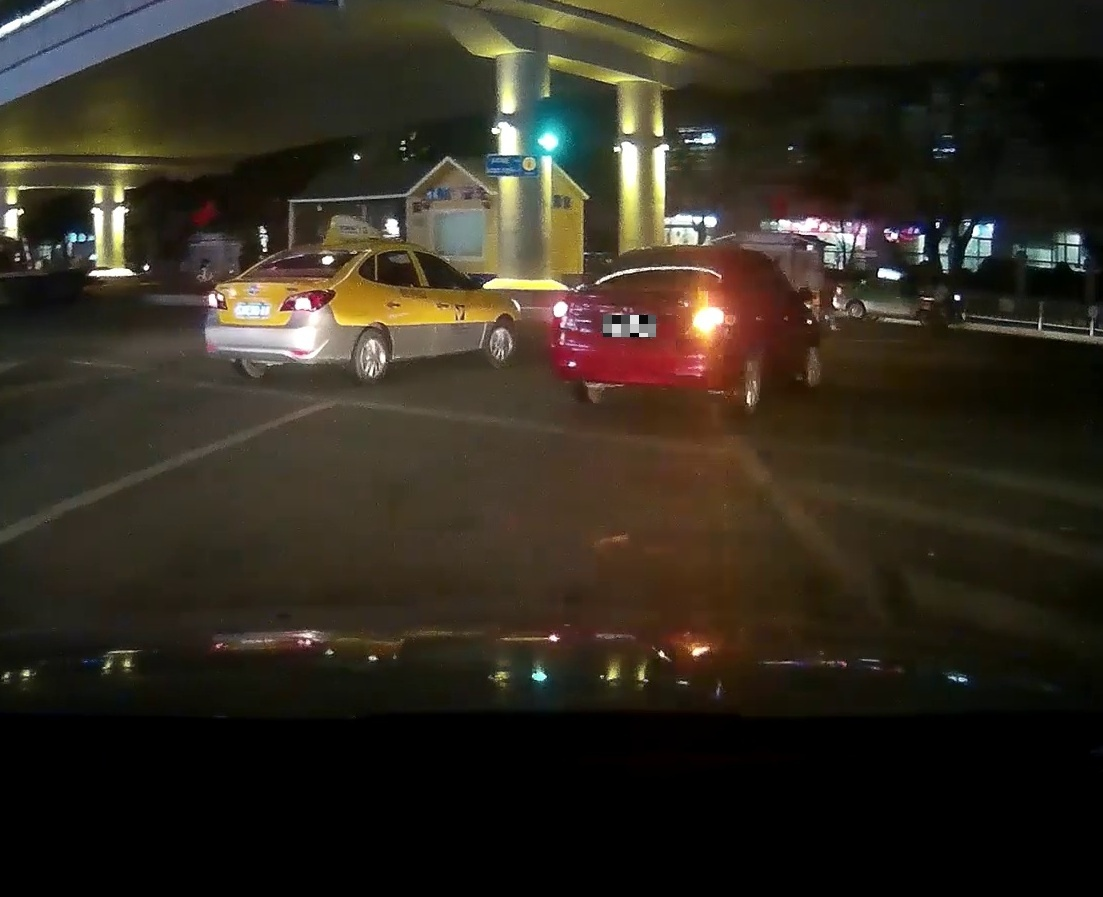L_light: (551, 300, 592, 333), (206, 289, 228, 310)
R_light: (279, 290, 336, 312), (692, 306, 725, 335)
T_light: (270, 273, 293, 277), (656, 254, 681, 257)
night-no: (204, 242, 367, 385)
night-right: (549, 244, 736, 416)
plate_1: (603, 315, 656, 337)
